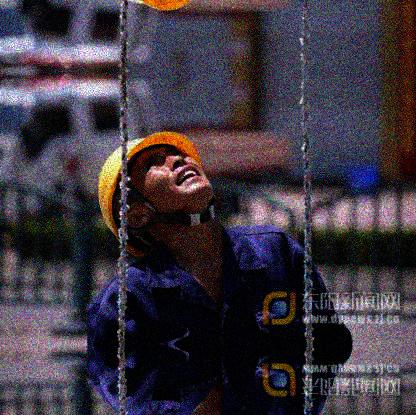helmet: (96, 131, 229, 255)
